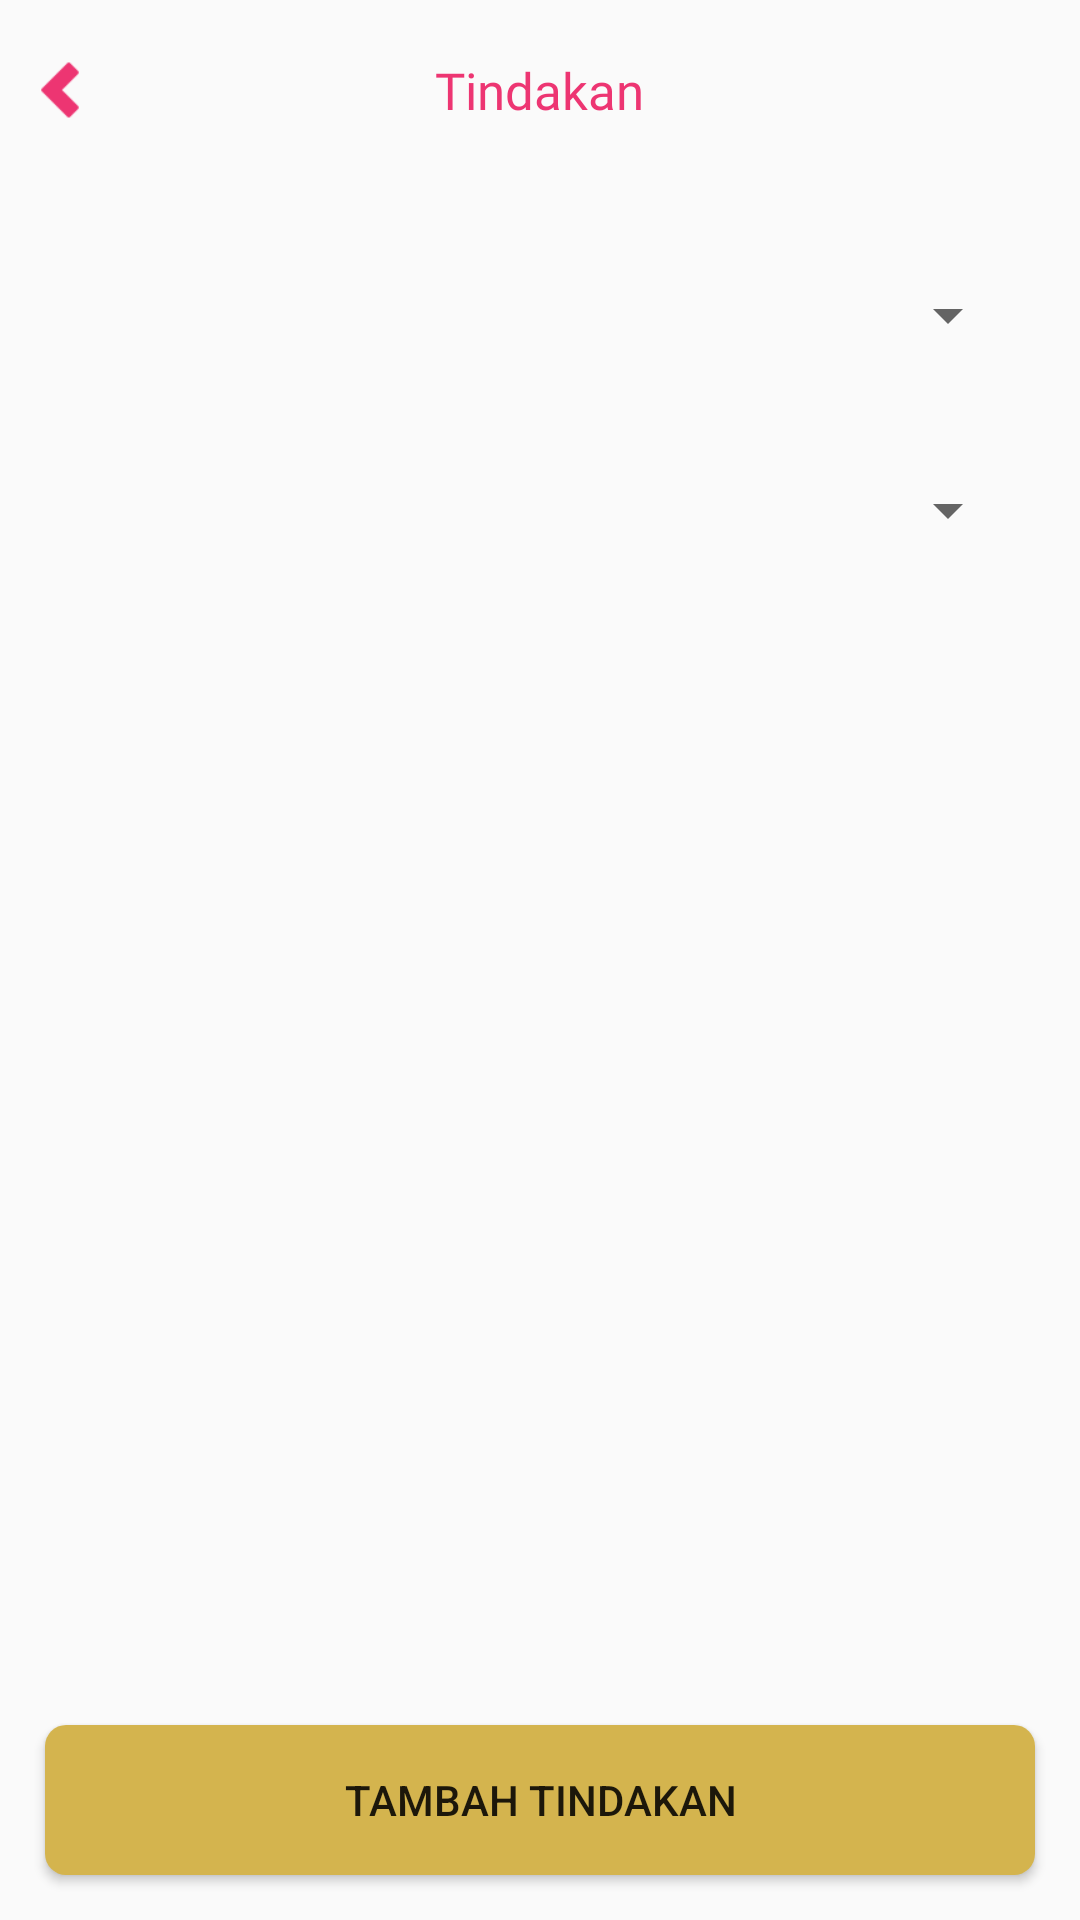

Point at icon controls on the screen. Image size 1080 x 1920, points as (x,y).
arrow left: (60,90)
